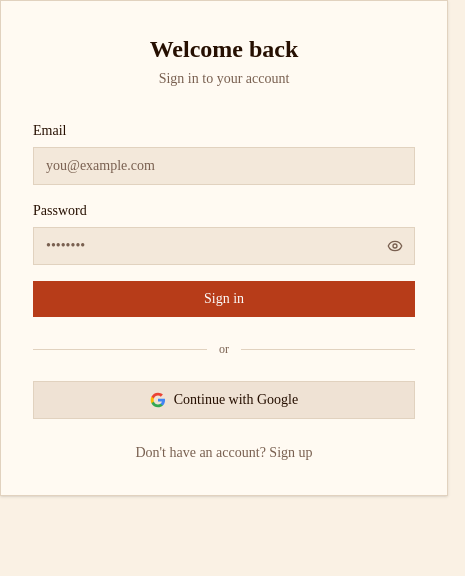
Test: LoginPage › shows error when email is empty
Click the button "Sign in".
click(224, 299)  # box [33,281,415,317]
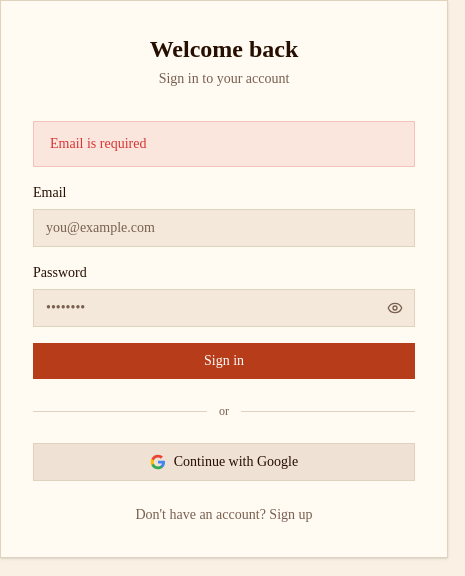
Result: the message reads "Email is required" at [50,136,146,151]
